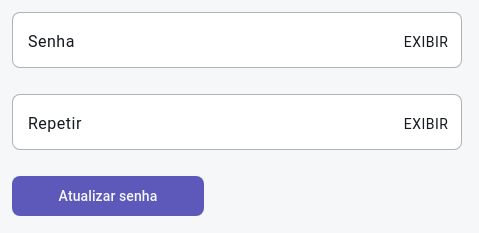
Test: <CreateNewPassword/> › should render error message password is different from confirm password
In the field labelled "Repetir": [237, 122] box [12, 94, 462, 150], type "@Teste123"
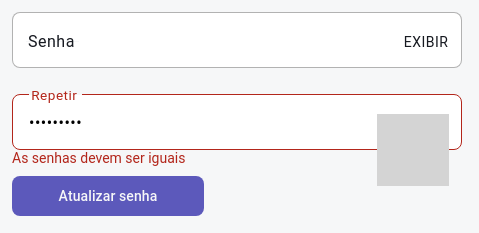
Now the text "As senhas devem ser iguais" is shown, box [12, 150, 185, 166]
In the field labelled "Senha": [237, 40] box [12, 12, 462, 68], type "@Teste123"
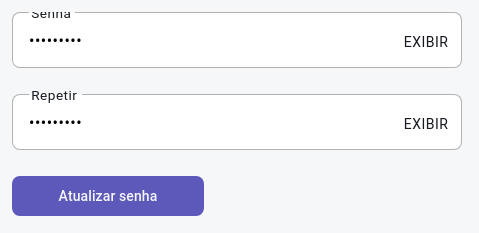
Now the text "As senhas devem ser iguais" is gone
